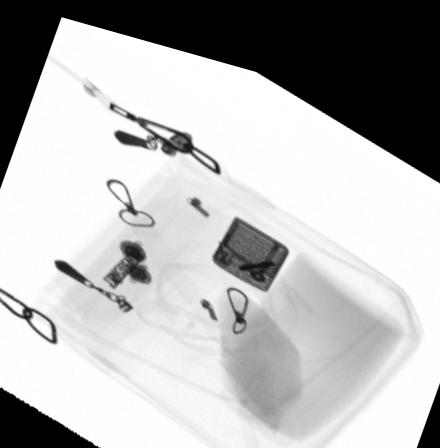Lighter: (211, 204, 289, 279)
